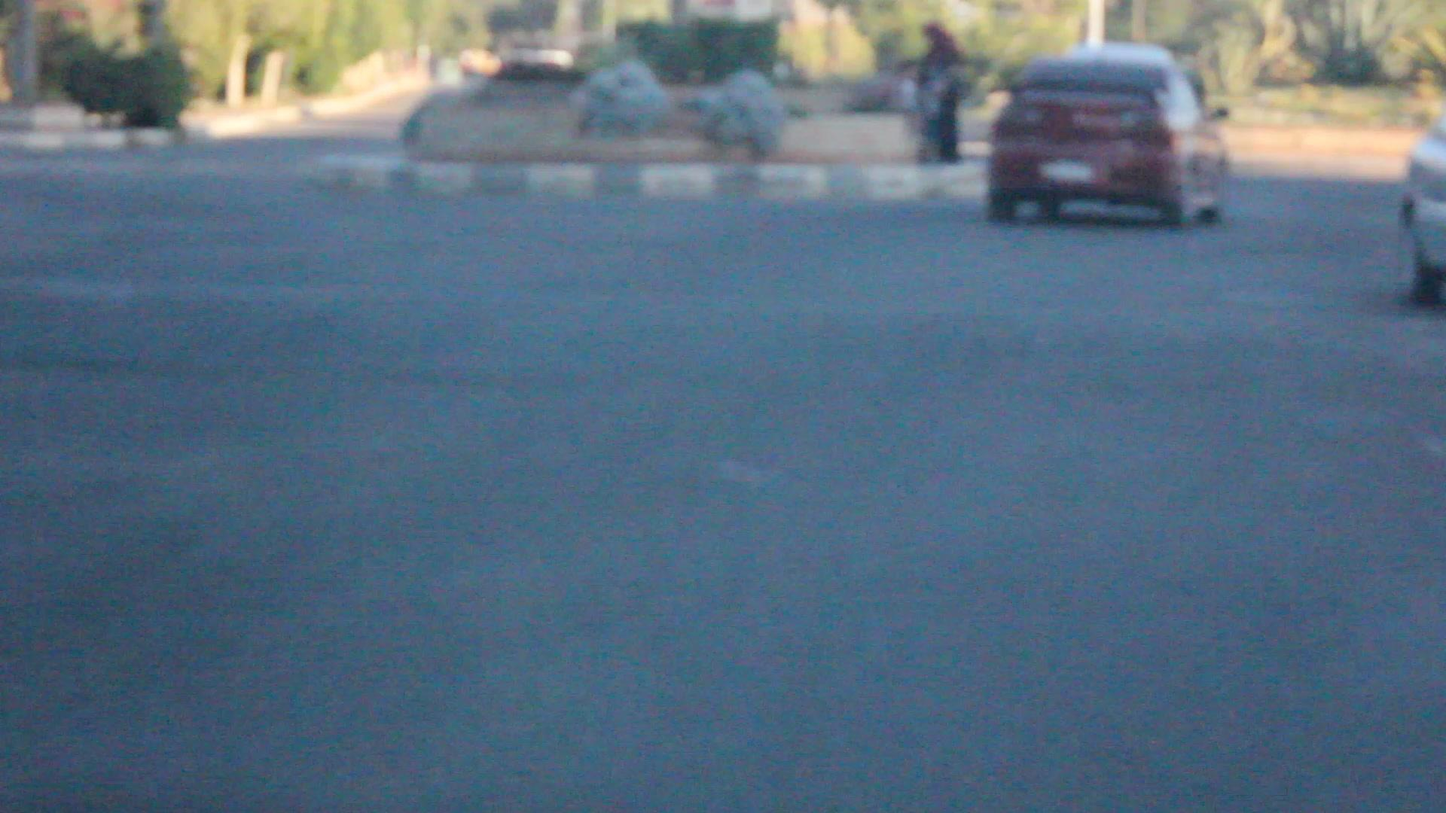Bump: (9, 275, 1446, 414)
